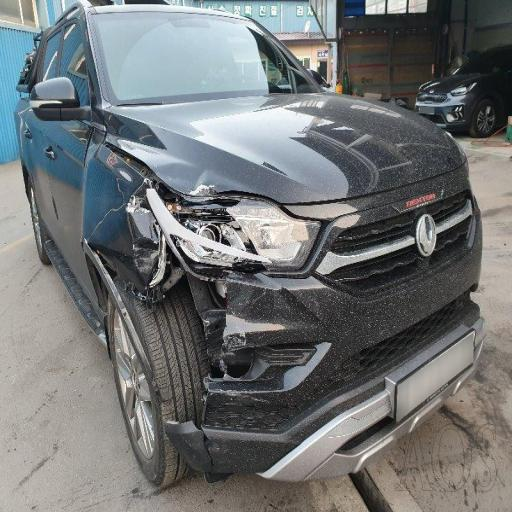broken: (96, 120, 328, 464)
